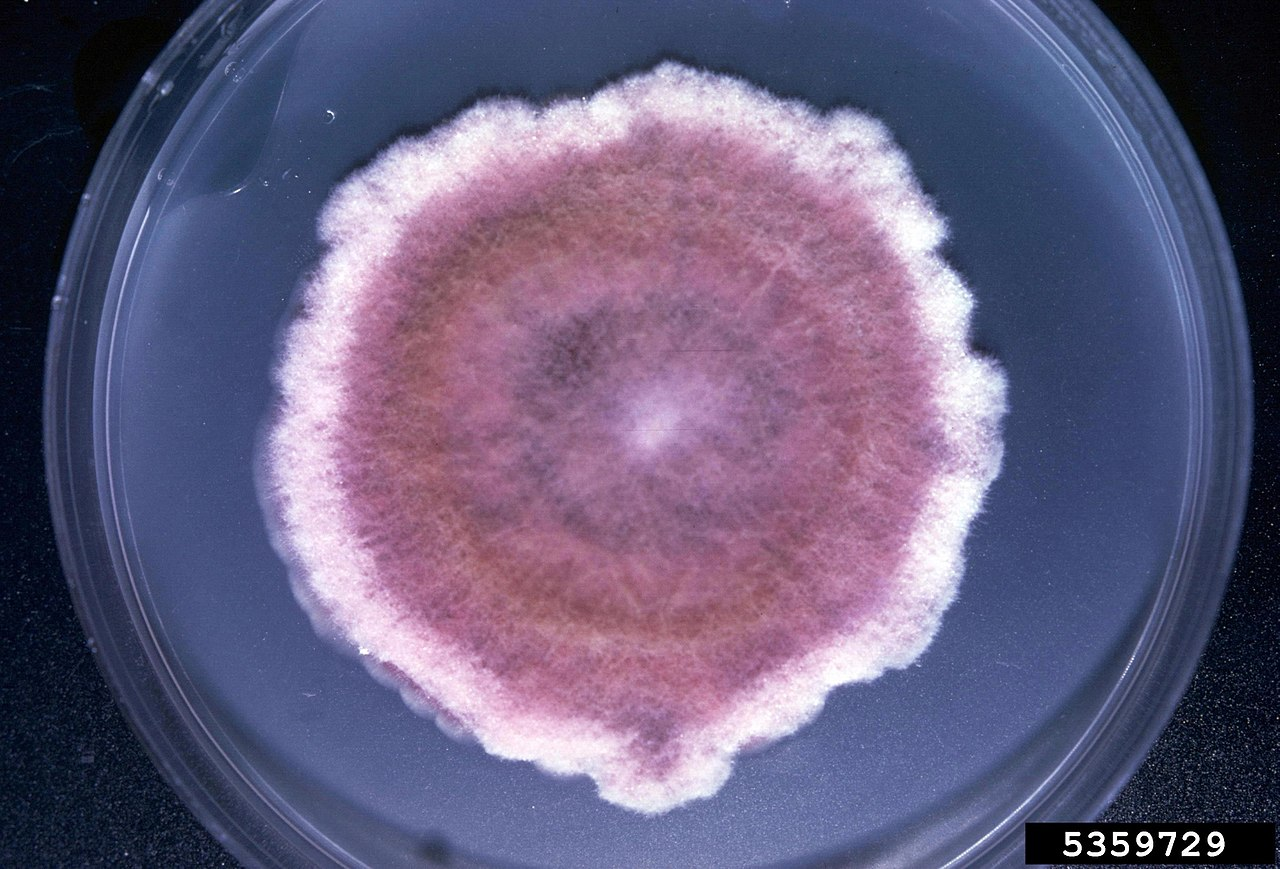Fusarium: (276, 137, 986, 720)
